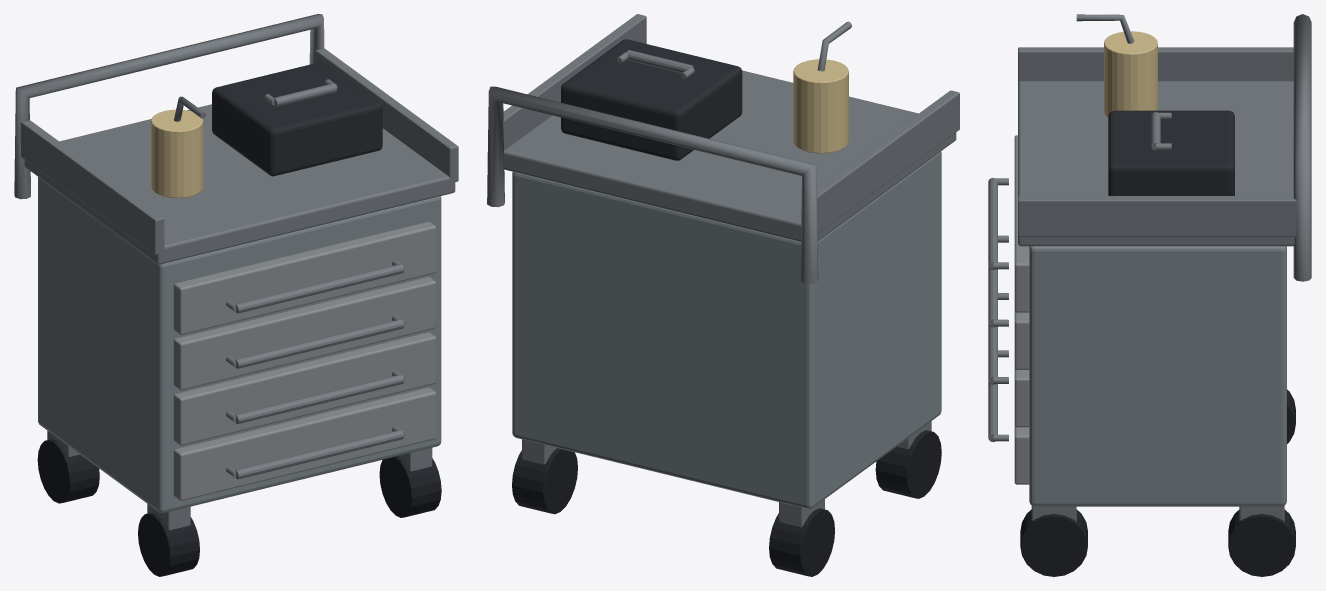
File: BC_ToolTrolley.fbx
The picture shows the model from 3 angles, left to right: view 1: azimuth 30°, elevation 25°; view 2: azimuth 150°, elevation 25°; view 3: azimuth 270°, elevation 25°; orthographic projection. The views are drawn at different scales.
Visible parts, largest first — view 1: BC_ToolTrolley; view 2: BC_ToolTrolley; view 3: BC_ToolTrolley.
Boxes of the visible parts, left/top/right/bottom form: BC_ToolTrolley: left=14, top=14, right=458, bottom=576; BC_ToolTrolley: left=487, top=14, right=959, bottom=576; BC_ToolTrolley: left=988, top=14, right=1311, bottom=576.
Bounding box in the file's own units: 82 × 111 × 71.6.
